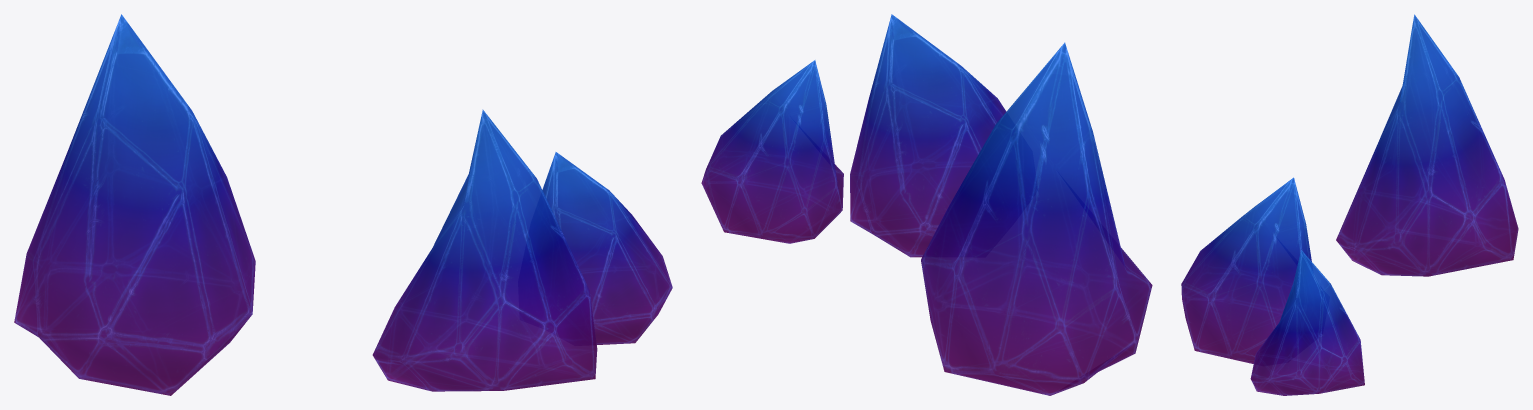
File: crystal.glb
3 views of the same model, side by side, from view 1: azimuth 30°, elevation 25°; view 2: azimuth 150°, elevation 25°; view 3: azimuth 270°, elevation 25° (orthographic). The views are drawn at different scales.
Parts seen in each view (by area): view 1: Group7015, Group7013, Group7014; view 2: Group7015, Group7013, Group7014; view 3: Group7015, Group7013, Group7014.
Boxes of the visible parts, x1,y1,x2,y2 form: Group7015: (14, 14, 255, 395); Group7013: (372, 109, 597, 391); Group7014: (542, 152, 672, 344); Group7015: (921, 42, 1152, 395); Group7013: (850, 14, 1006, 257); Group7014: (701, 60, 843, 243); Group7015: (1336, 14, 1518, 276); Group7013: (1181, 177, 1311, 363); Group7014: (1250, 250, 1364, 395).
Bounding box in the file's own units: 5.34 × 3.28 × 4.08.
1 material, 1 textured.
